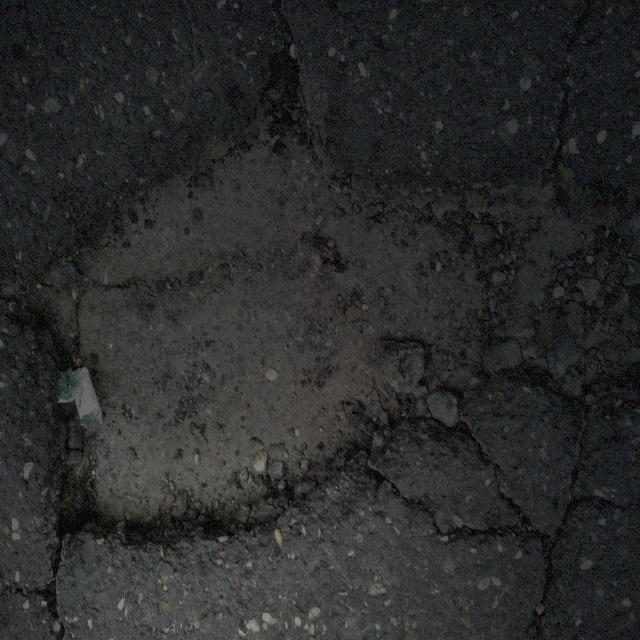pothole: (44, 46, 562, 552)
